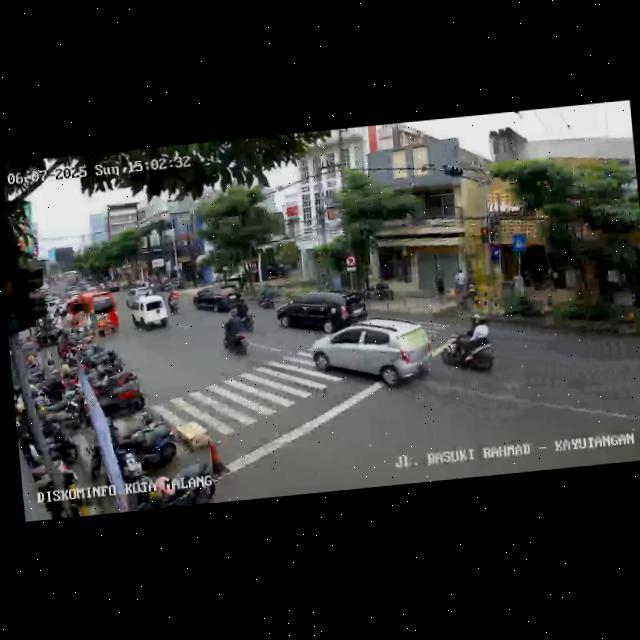car: (310, 313, 434, 398), (275, 286, 372, 340), (61, 288, 119, 342), (191, 280, 246, 316), (128, 293, 171, 333)
motorcycle: (433, 316, 498, 381), (219, 307, 252, 358), (257, 282, 276, 309), (166, 288, 181, 313)
